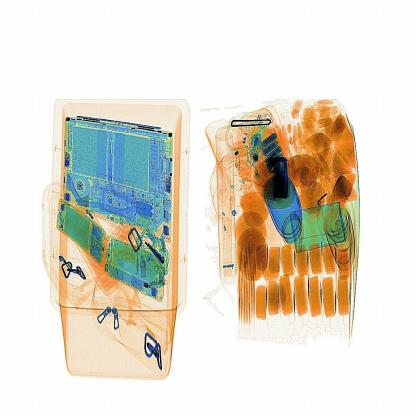scissors: (263, 150, 297, 204)
